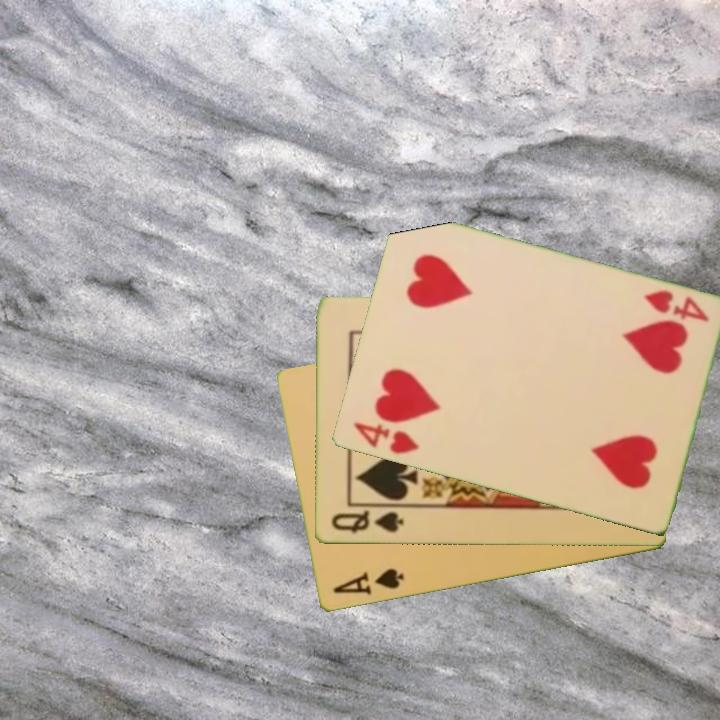4h: (640, 287, 712, 326), (349, 419, 422, 457)
As: (329, 565, 407, 599)
Qs: (327, 507, 406, 537)
